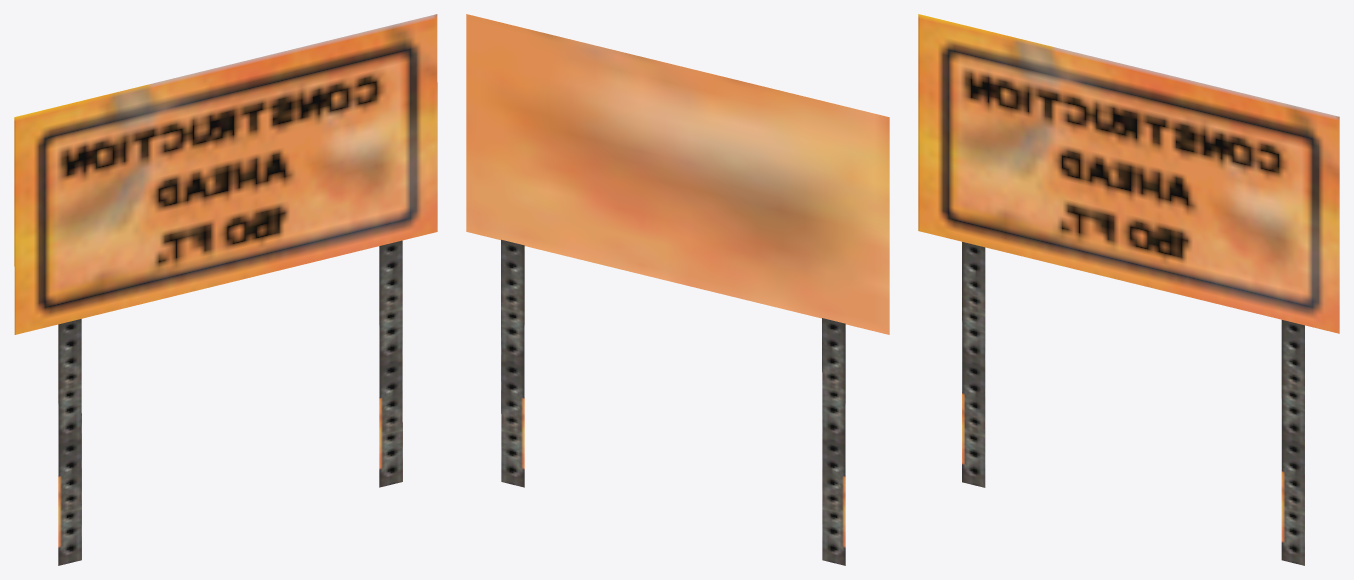
File: Constsign01.glb
The picture shows the model from 3 angles, left to right: view 1: azimuth 30°, elevation 25°; view 2: azimuth 150°, elevation 25°; view 3: azimuth 330°, elevation 25°; orthographic projection.
Parts seen in each view (by area): view 1: Constsign01; view 2: Constsign01; view 3: Constsign01.
Boxes of the visible parts, x1,y1,x2,y2 form: Constsign01: (14, 14, 437, 565); Constsign01: (466, 14, 889, 565); Constsign01: (918, 14, 1339, 565).
Size of the model in its own units: 236 by 245 by 0.103.
1 material, 1 textured.
